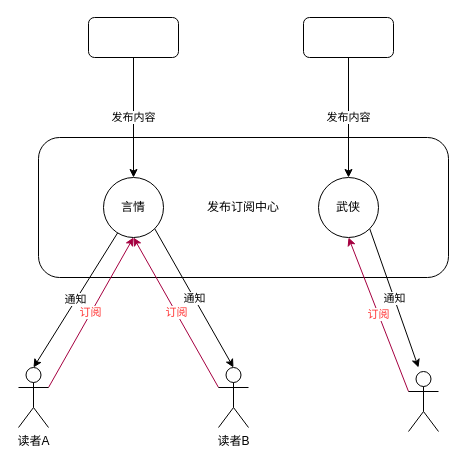
Image size: 466x470. Some labels were removed from this diagram. The box of each missing label's shape, as (x1, y1, x2, y2) in pixels:
作者A: (88, 16, 178, 58)
作者B: (302, 16, 394, 58)
读者C: (408, 370, 438, 432)
